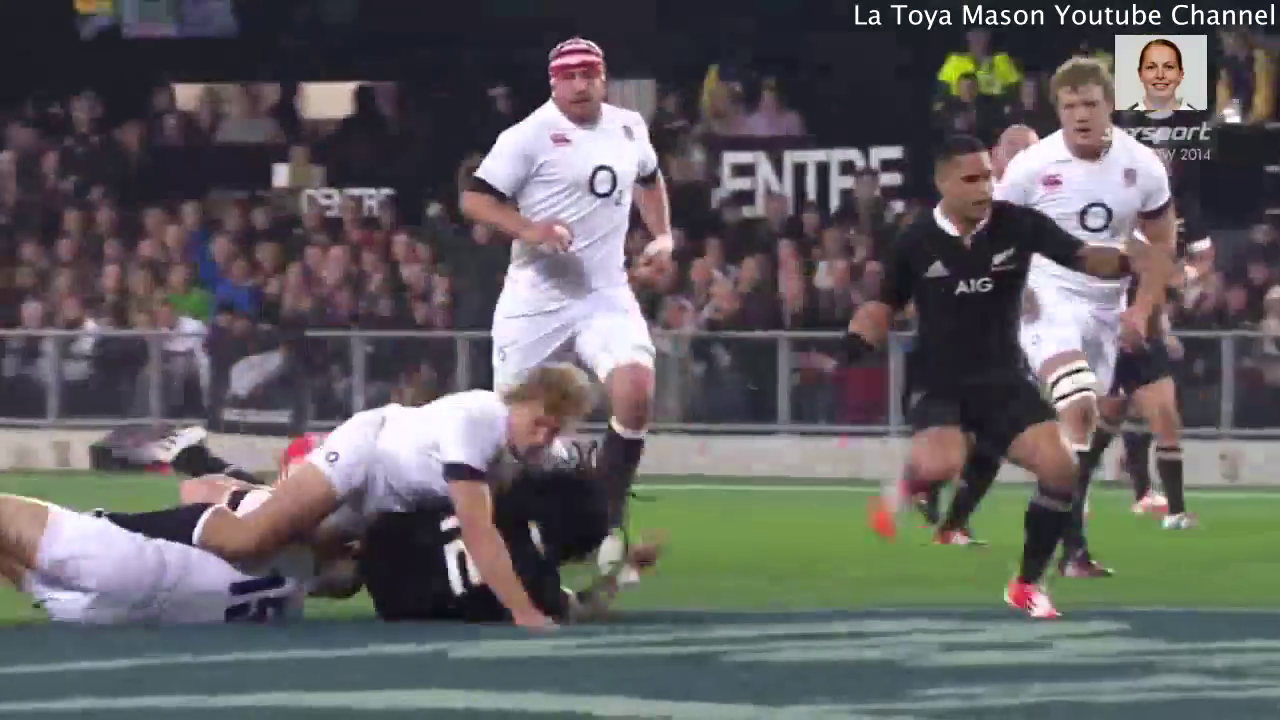player: (877, 133, 1182, 632), (109, 350, 589, 567), (465, 36, 667, 376), (1001, 69, 1176, 412), (1, 500, 357, 639), (312, 504, 655, 616)
